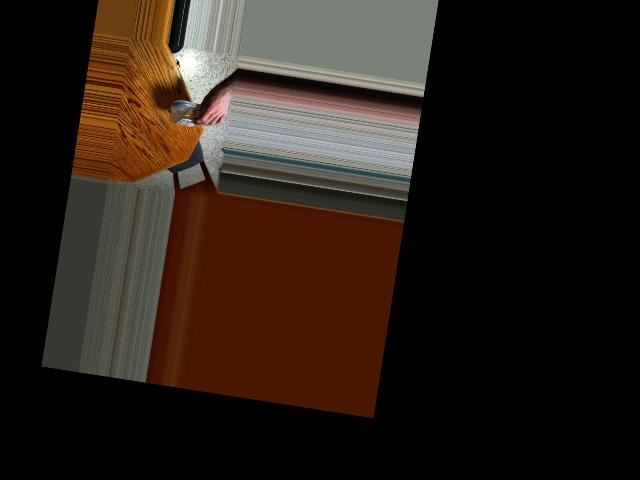cheese: (163, 88, 215, 136)
